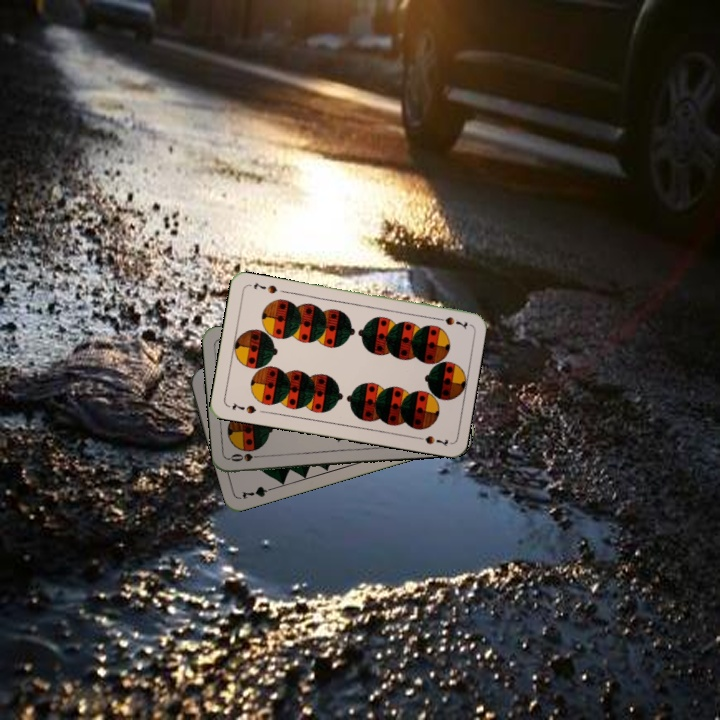G7: (238, 482, 278, 501)
S7: (431, 312, 470, 332), (228, 399, 259, 416)
SO: (226, 449, 267, 464)
